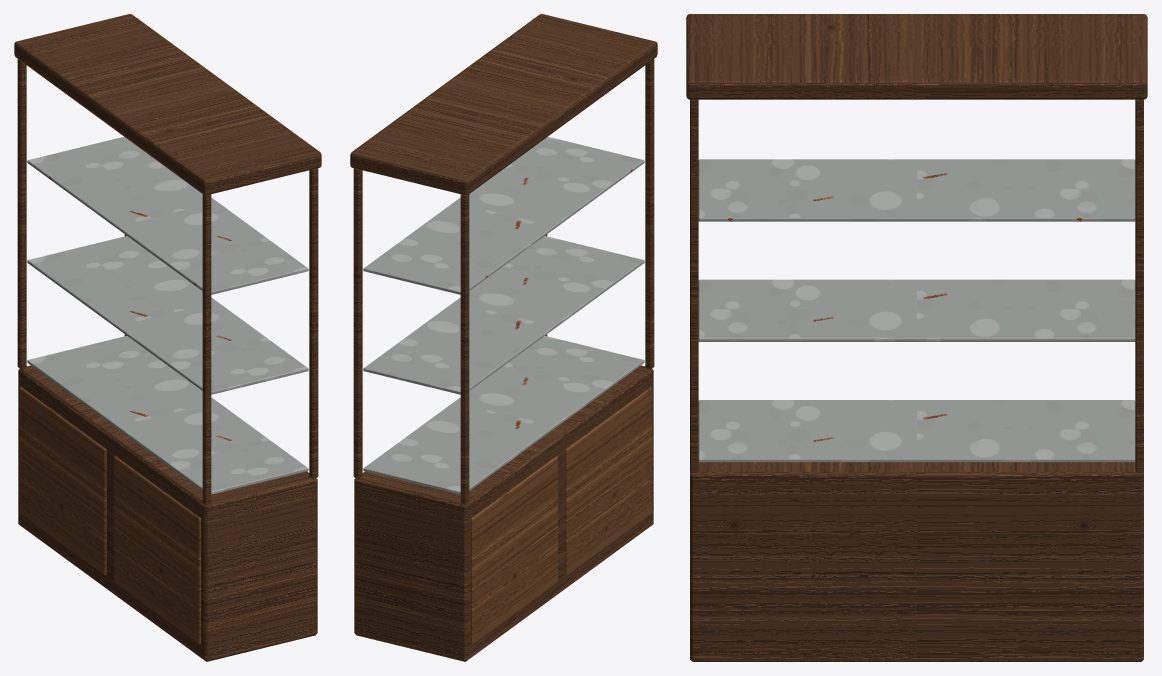
The model's file is glass_showcase.glb.
3 renders of one model, left to right at view 1: azimuth 30°, elevation 25°; view 2: azimuth 150°, elevation 25°; view 3: azimuth 270°, elevation 25°, orthographic. The views are drawn at different scales.
Visible parts, largest first — view 1: p; view 2: p; view 3: p.
Boxes of the visible parts, x1=… form: p: x1=14, y1=14, x2=321, y2=661; p: x1=350, y1=14, x2=657, y2=661; p: x1=686, y1=14, x2=1147, y2=661.
Bounding box in the file's own units: 0.47 × 1.84 × 1.32.
Materials: 3 (3 with a texture image).
